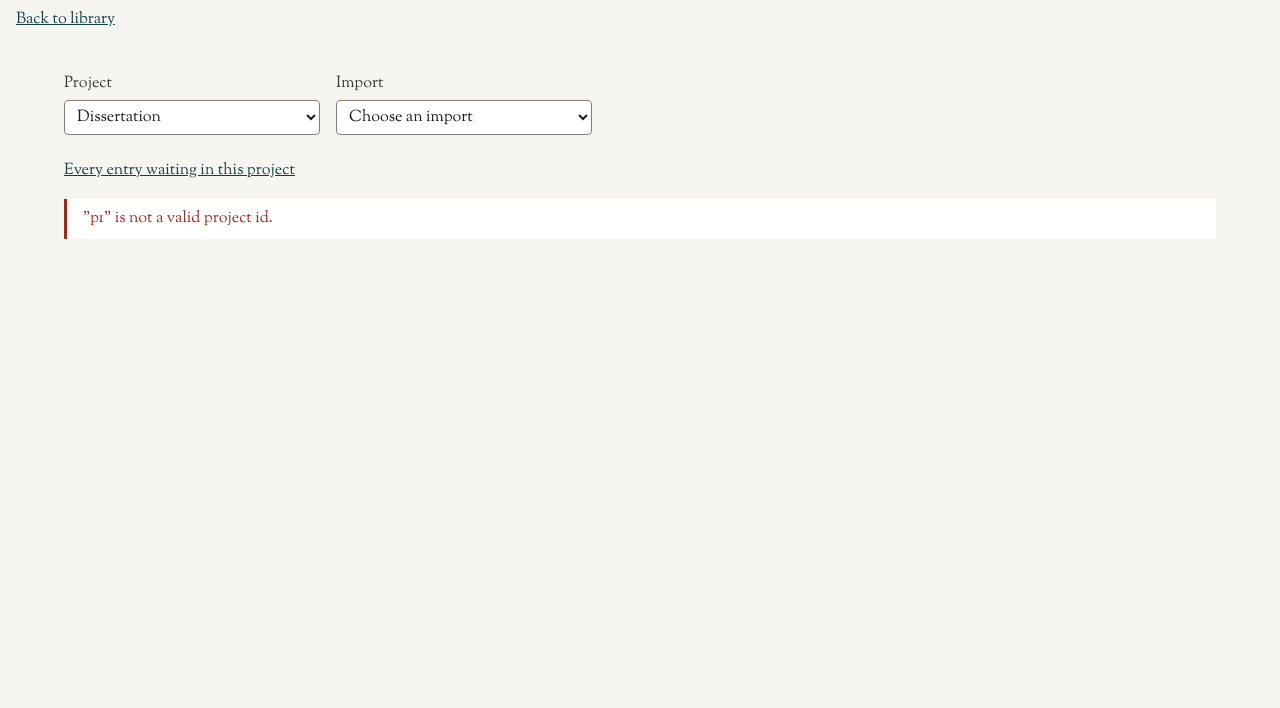
Test: the app's one router (R118) › /import/review shows the review queue with a working Back to library link
Expected: the dropdown labelled "Import" is shown, [336, 100, 592, 135]
Click the link "Back to library".
click(65, 20)  # box [16, 8, 115, 31]
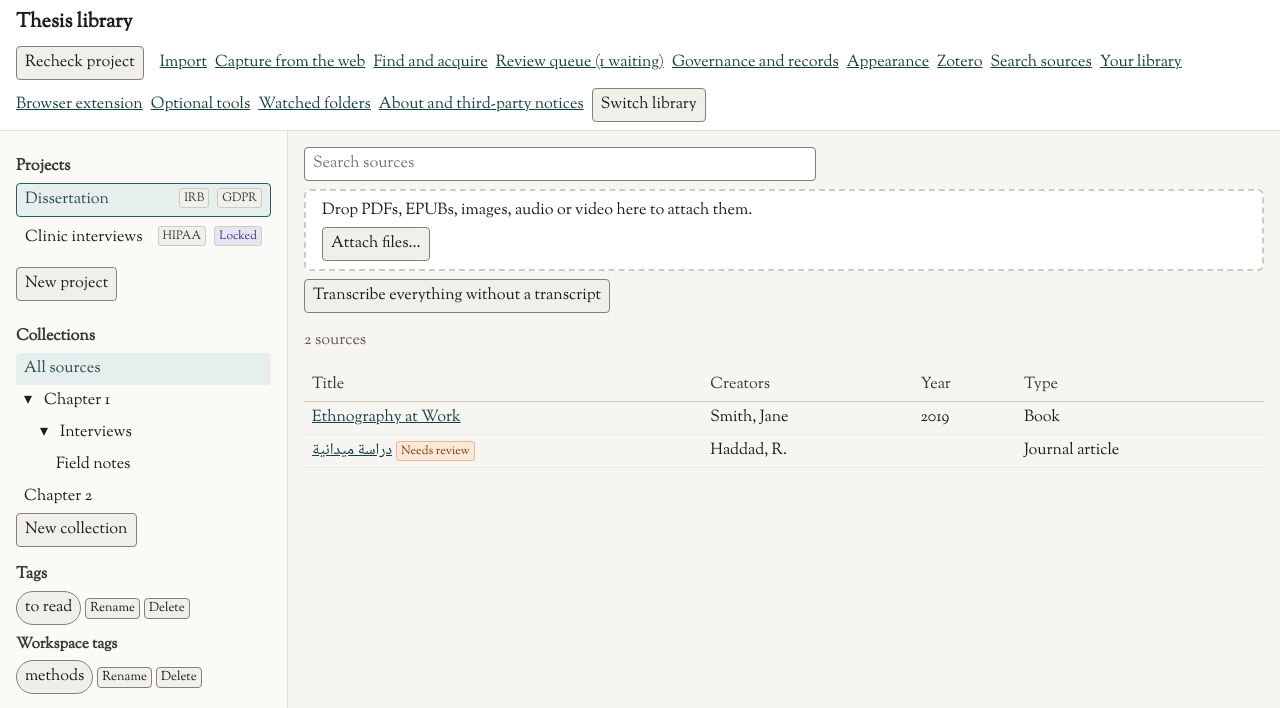
Expected: the navigation bar "Projects" is shown, [16, 155, 271, 255]
